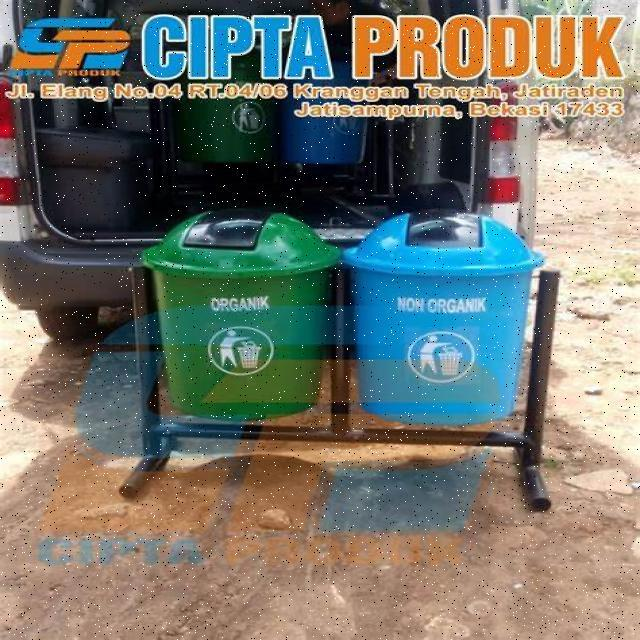garbage container: (346, 207, 618, 458), (134, 195, 342, 440)
